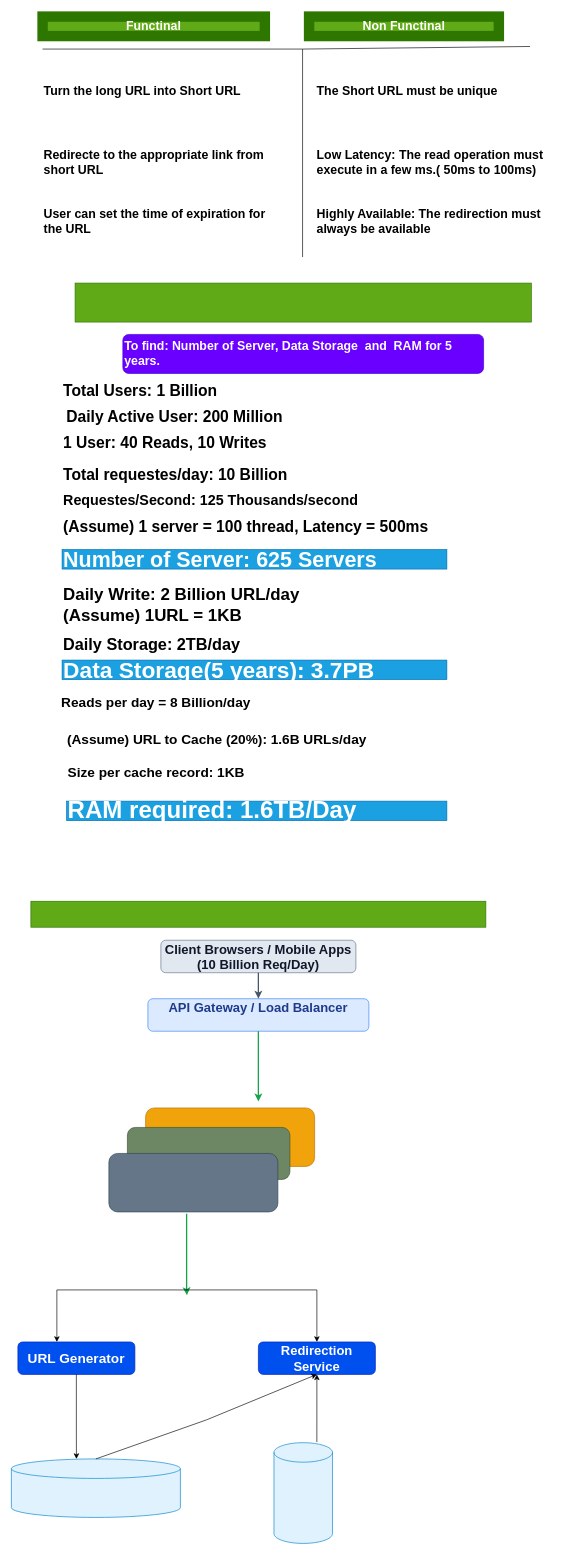
This 575x1555 diagram has some shape labels left out. The centre of each missing label's shape, as x and y in pixels:
Back of the envelop estimantion: point (302, 302)
Distributed Database: point (95, 1487)
RAM/Cache: point (302, 1492)
Servers: point (193, 1182)
URL Shortener System Architecture (200M Daily Active User): point (258, 914)
